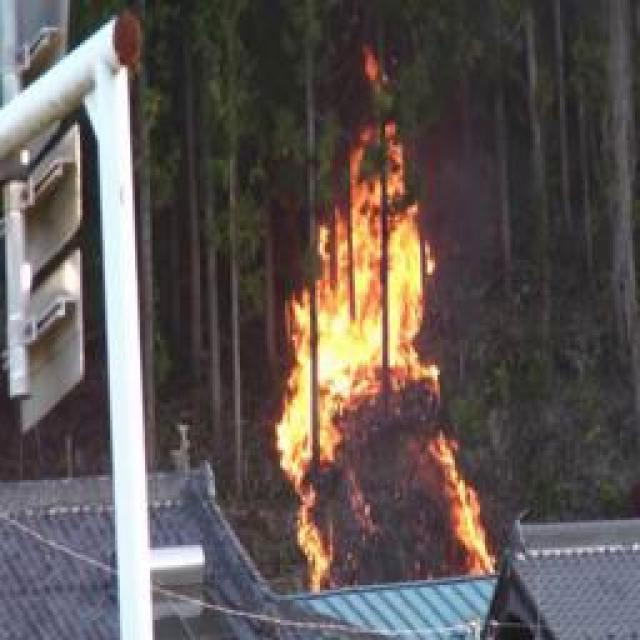Fire: (280, 131, 489, 583)
